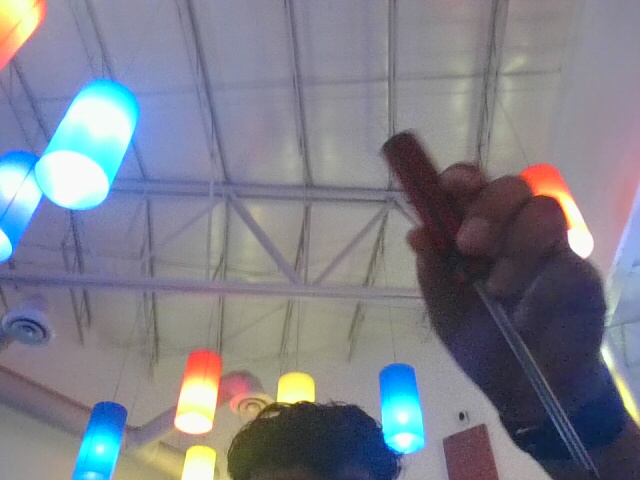destornillador: (380, 133, 616, 480)
